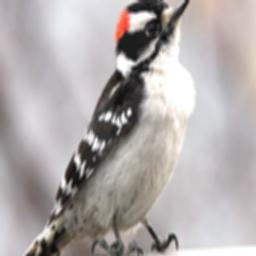Woodpecker: (24, 0, 197, 256)
